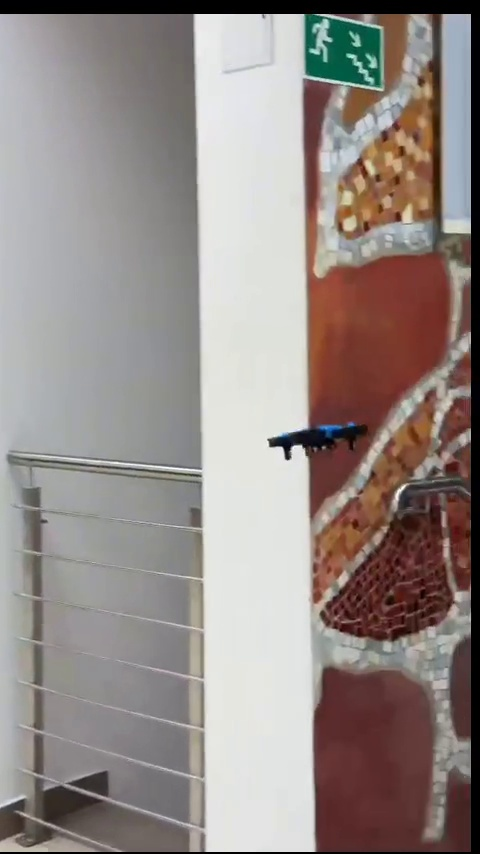drone: (271, 423, 367, 457)
